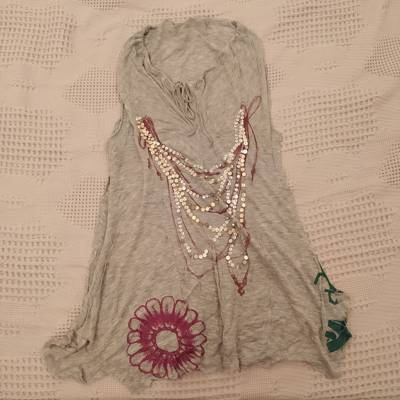Dress: (63, 19, 359, 380)
